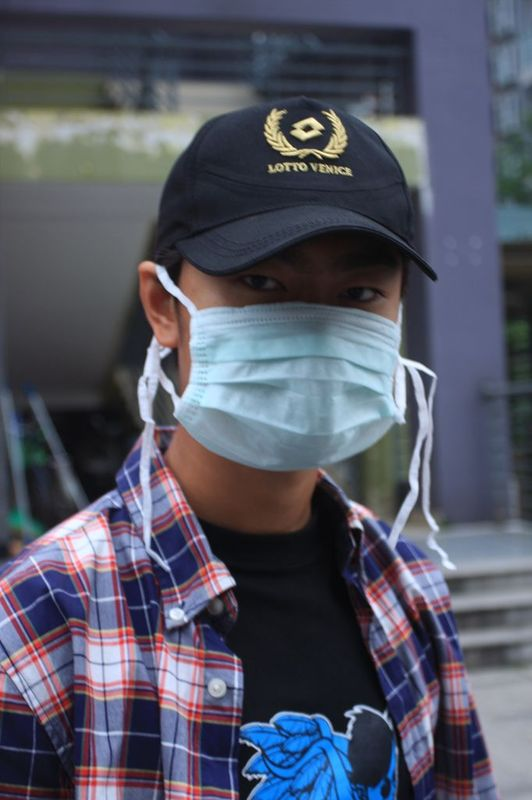face_mask: (192, 195, 397, 467)
